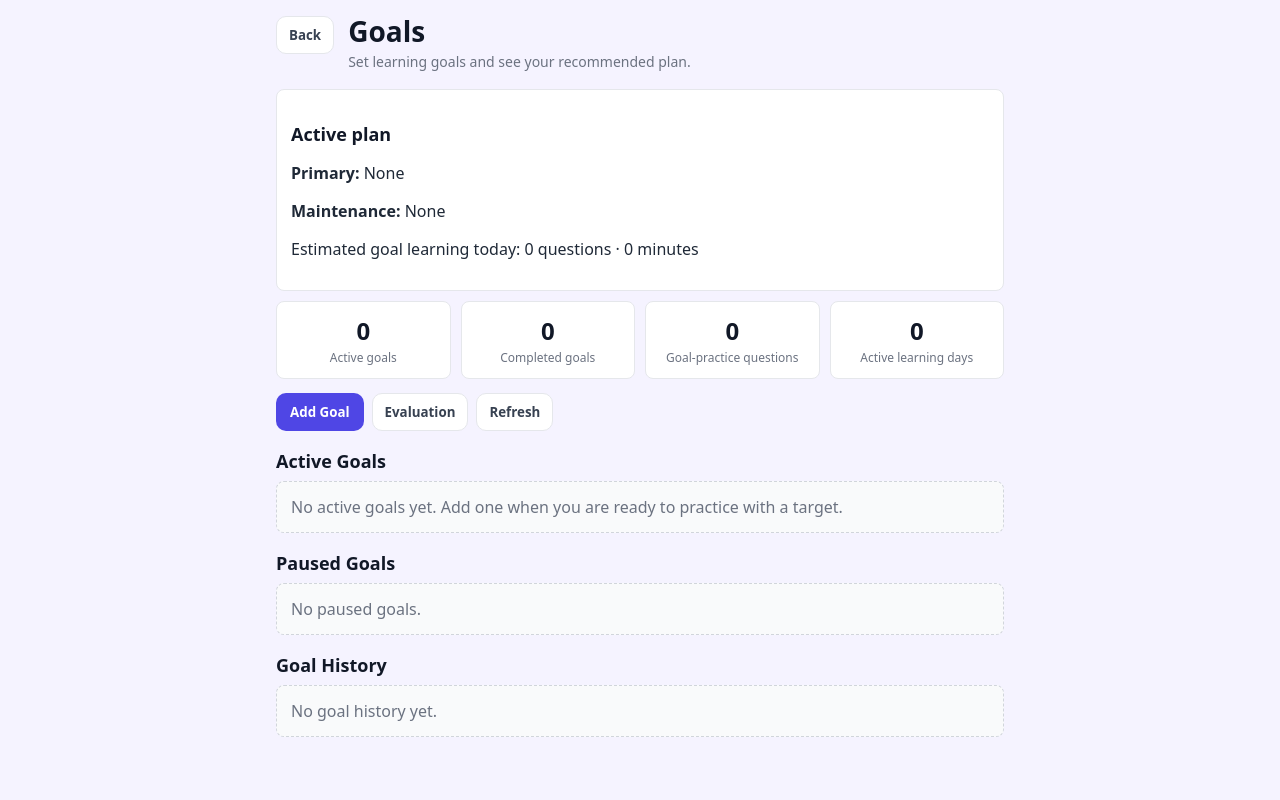
it: GoalsPage › defaults duration to 7 days and supports 1 and 30 days
Click the button "Add Goal".
click(320, 412)  # box [276,393,364,431]
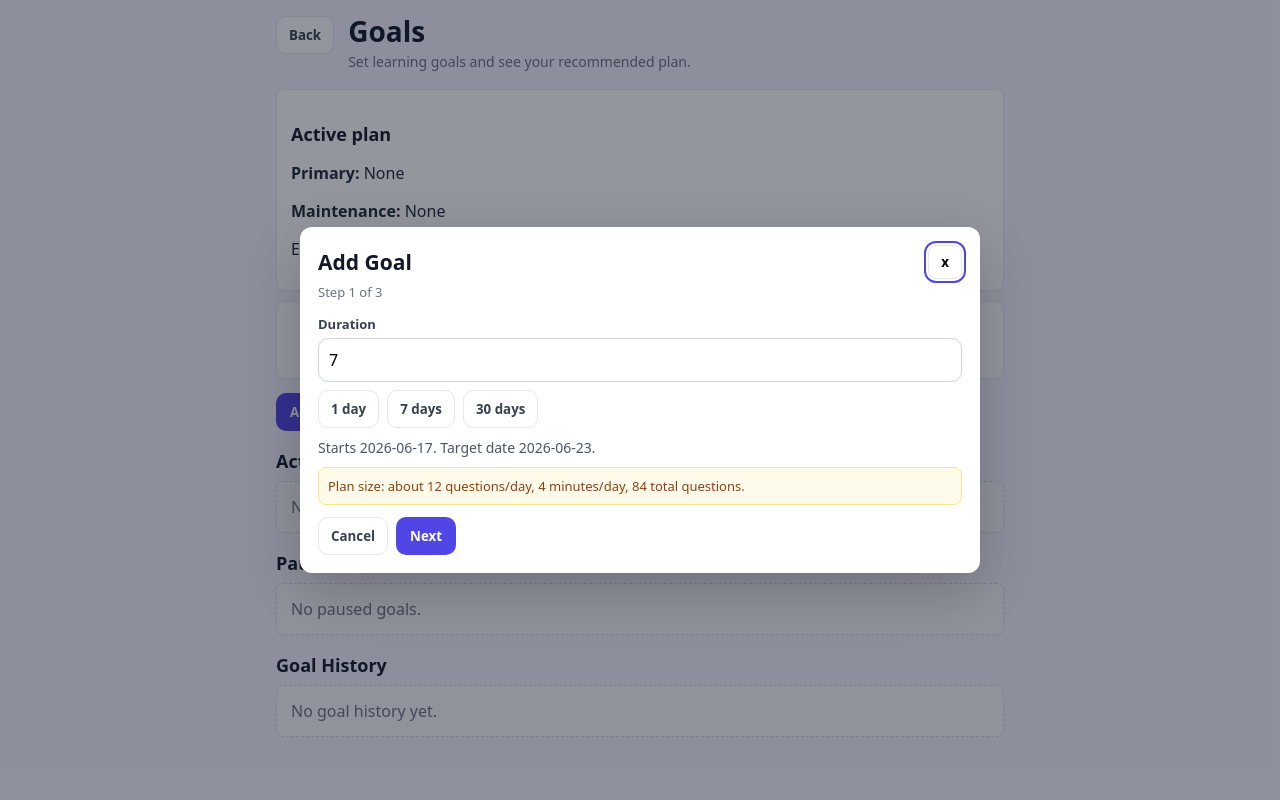
Check: the number field named "goal duration" holds "7", box [318,338,962,382]
Click the button "1 day".
click(349, 409)  # box [318,390,379,428]
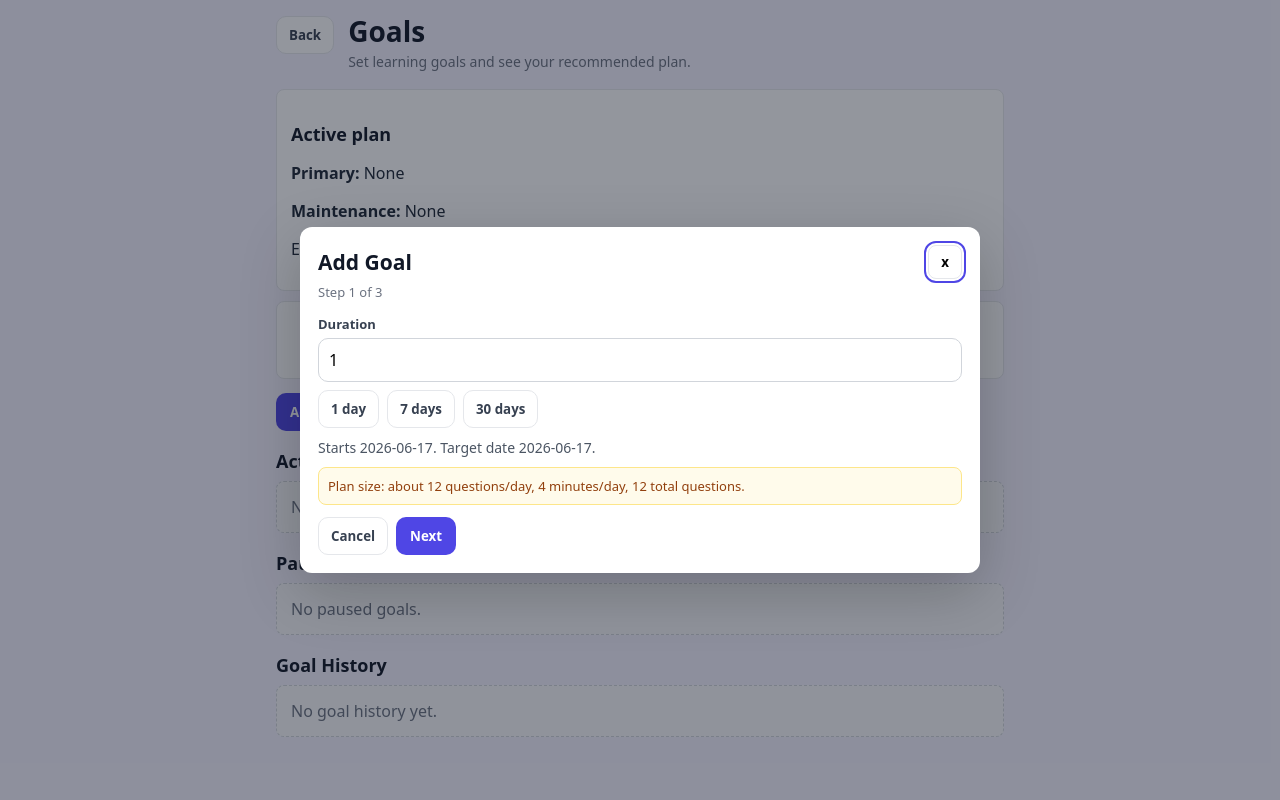
Check: the number field named "goal duration" holds "1", box [318,338,962,382]
Check: the text "Starts 2026-06-17. Target date 2026-06-17." is shown, box [318,438,596,457]
Click the button "30 days".
click(501, 409)  # box [463,390,538,428]
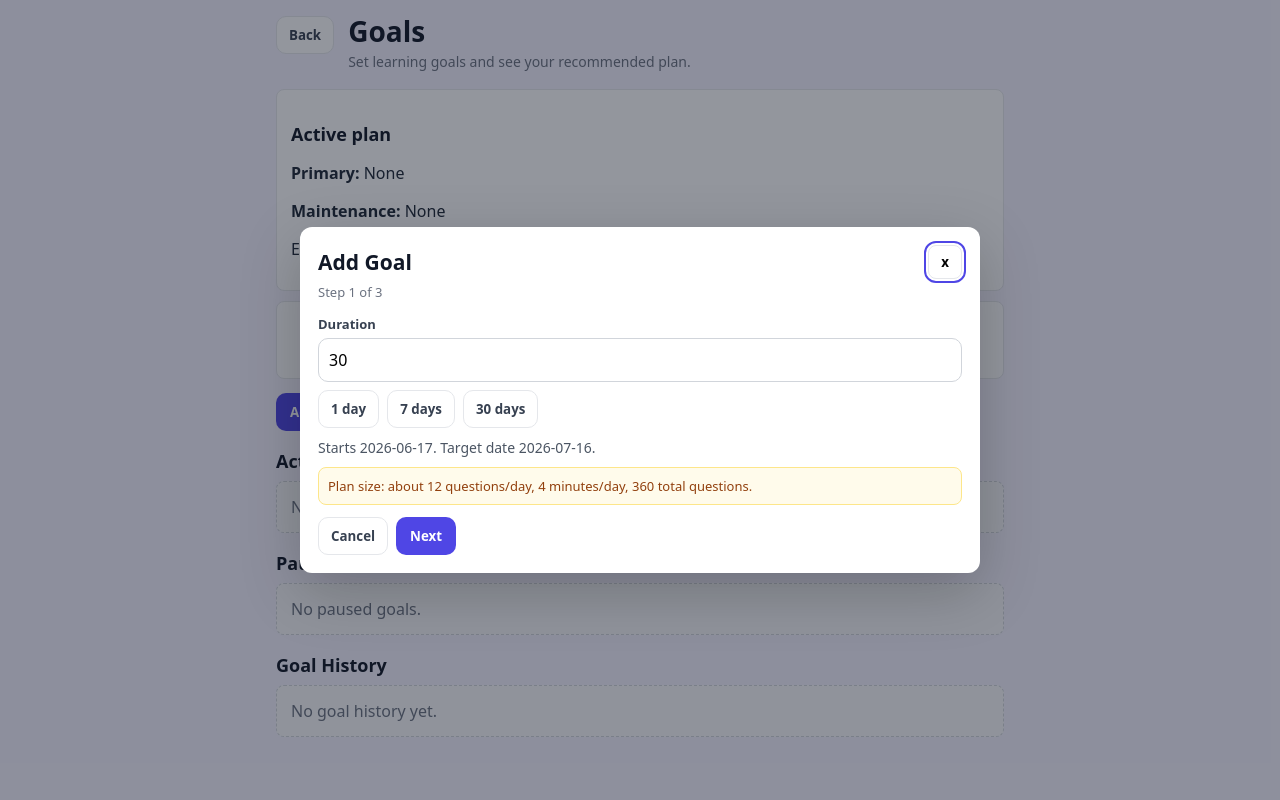
Check: the number field named "goal duration" holds "30", box [318,338,962,382]
Check: the text "Starts 2026-06-17. Target date 2026-07-16." is shown, box [318,438,596,457]
